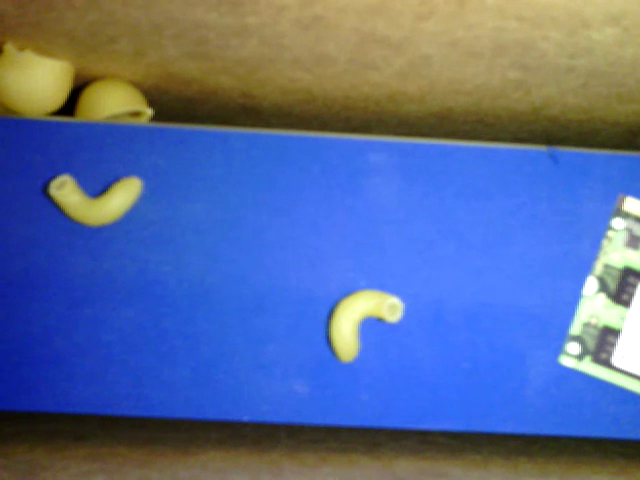elbow: (328, 289, 403, 361), (50, 173, 142, 226)
shell: (1, 43, 74, 115), (76, 77, 152, 122)
